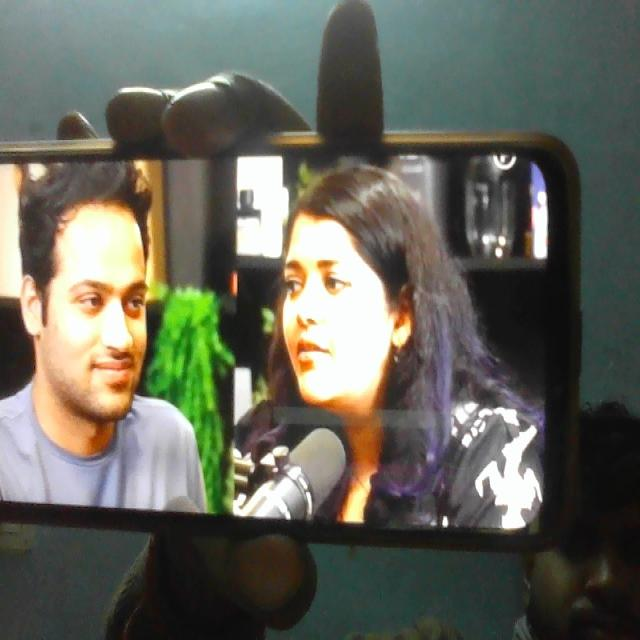fake: (266, 147, 413, 425), (27, 160, 167, 424)
